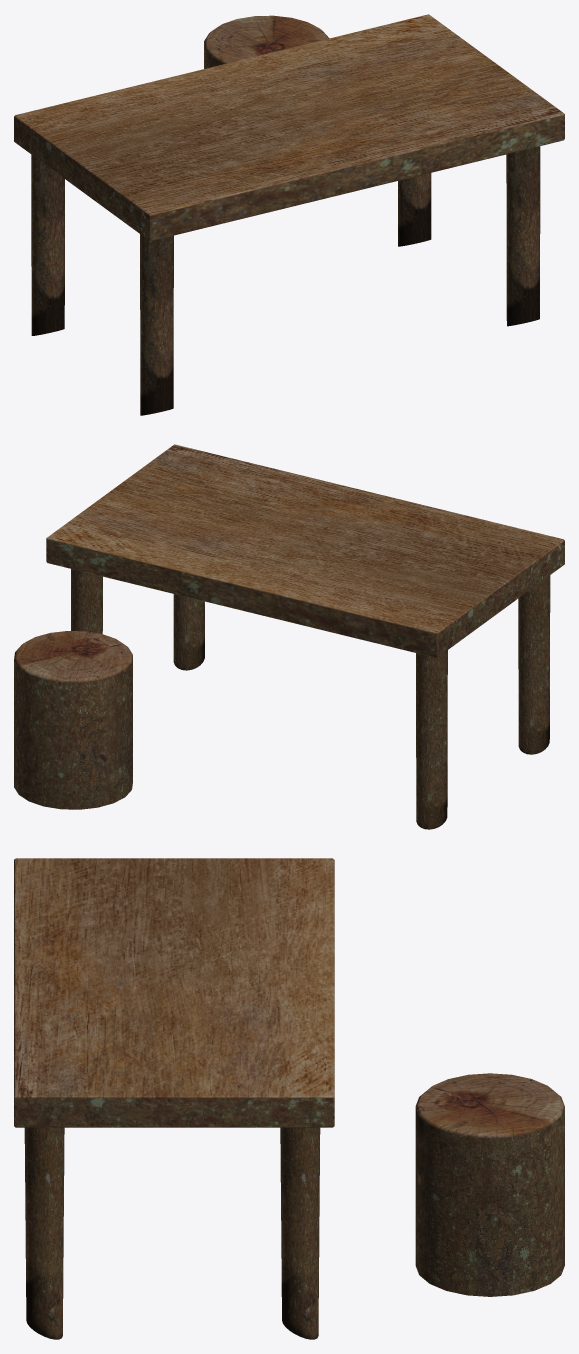
The model's file is FloorAndTable02.fbx.
3 renders of one model, top to bottom at view 1: azimuth 30°, elevation 25°; view 2: azimuth 150°, elevation 25°; view 3: azimuth 270°, elevation 25°, orthographic. The views are drawn at different scales.
Parts seen in each view (by area): view 1: pCube1, pCylinder8, pCylinder2, pCylinder6, pCylinder1, pCylinder7; view 2: pCube1, pCylinder1, pCylinder6, pCylinder2, pCylinder8, pCylinder7; view 3: pCube1, pCylinder1, pCylinder8, pCylinder7.
Boxes of the visible parts, x1,y1,x2,y2 form: pCube1: [14, 14, 564, 241]; pCylinder8: [506, 146, 540, 326]; pCylinder2: [140, 234, 173, 415]; pCylinder6: [31, 154, 64, 335]; pCylinder1: [204, 15, 329, 68]; pCylinder7: [398, 173, 431, 246]; pCube1: [46, 444, 564, 657]; pCylinder1: [14, 631, 132, 809]; pCylinder6: [416, 650, 447, 829]; pCylinder2: [518, 575, 550, 754]; pCylinder8: [173, 594, 204, 670]; pCylinder7: [71, 569, 102, 633]; pCube1: [14, 858, 334, 1127]; pCylinder1: [415, 1073, 564, 1296]; pCylinder8: [24, 1127, 64, 1339]; pCylinder7: [280, 1127, 320, 1339].
Bounding box in the file's own units: 159 × 79.84 × 155.
1 material, 1 textured.
